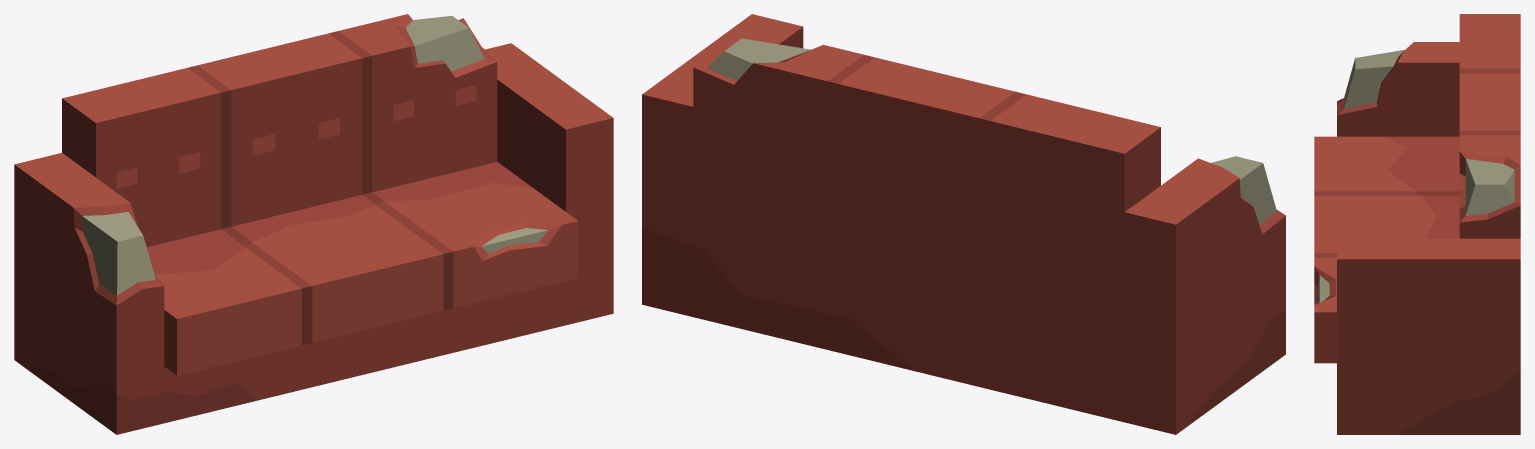
The model's file is AI_Prop_Couch_Damaged_01.fbx.
3 views of the same model, side by side, from view 1: azimuth 30°, elevation 25°; view 2: azimuth 150°, elevation 25°; view 3: azimuth 270°, elevation 25° (orthographic). The views are drawn at different scales.
Visible parts, largest first — view 1: AI_Prop_Couch_Damaged_01; view 2: AI_Prop_Couch_Damaged_01; view 3: AI_Prop_Couch_Damaged_01.
Boxes of the visible parts, box(x1,y1,x2,y2) form: AI_Prop_Couch_Damaged_01: box(14, 14, 613, 434); AI_Prop_Couch_Damaged_01: box(642, 14, 1285, 434); AI_Prop_Couch_Damaged_01: box(1314, 14, 1520, 434).
Bounding box in the file's own units: 4.1 × 1.97 × 1.64.
